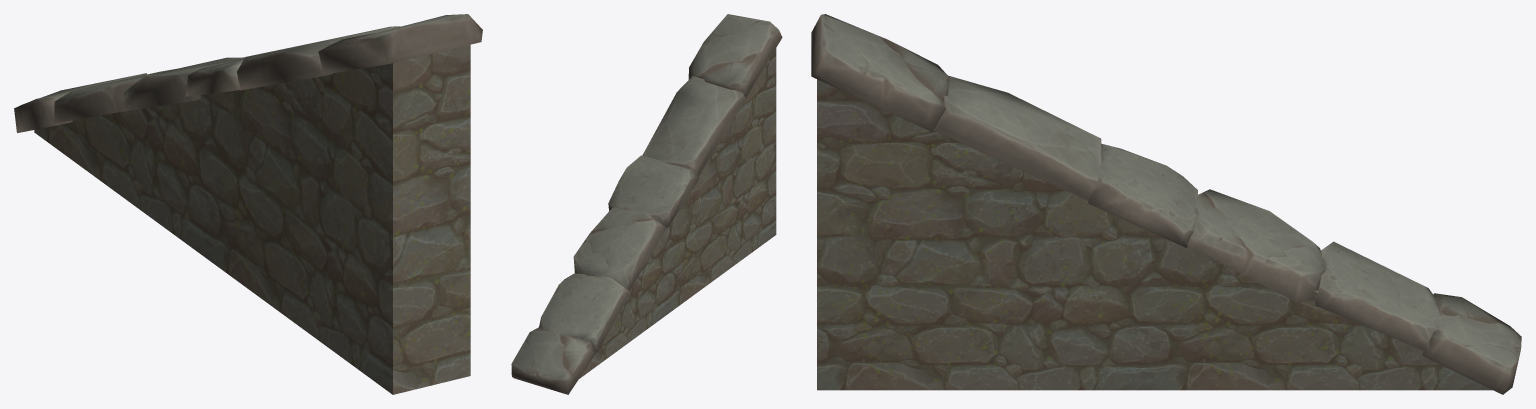
The model's file is SM_FW01_Ruins_Int_Wall_Stairs_4x2_01.fbx.
The picture shows the model from 3 angles, left to right: view 1: azimuth 30°, elevation 25°; view 2: azimuth 150°, elevation 25°; view 3: azimuth 270°, elevation 25°; orthographic projection. The views are drawn at different scales.
Visible parts, largest first — view 1: SM_FW01_Ruins_Int_Wall_Stairs_4x2_01; view 2: SM_FW01_Ruins_Int_Wall_Stairs_4x2_01; view 3: SM_FW01_Ruins_Int_Wall_Stairs_4x2_01.
Part boxes in pixels (left/top/right/bottom): SM_FW01_Ruins_Int_Wall_Stairs_4x2_01: left=14, top=14, right=482, bottom=394; SM_FW01_Ruins_Int_Wall_Stairs_4x2_01: left=511, top=14, right=782, bottom=394; SM_FW01_Ruins_Int_Wall_Stairs_4x2_01: left=811, top=14, right=1521, bottom=394.
Bounding box in the file's own units: 0.7022 × 2.24 × 4.17.
